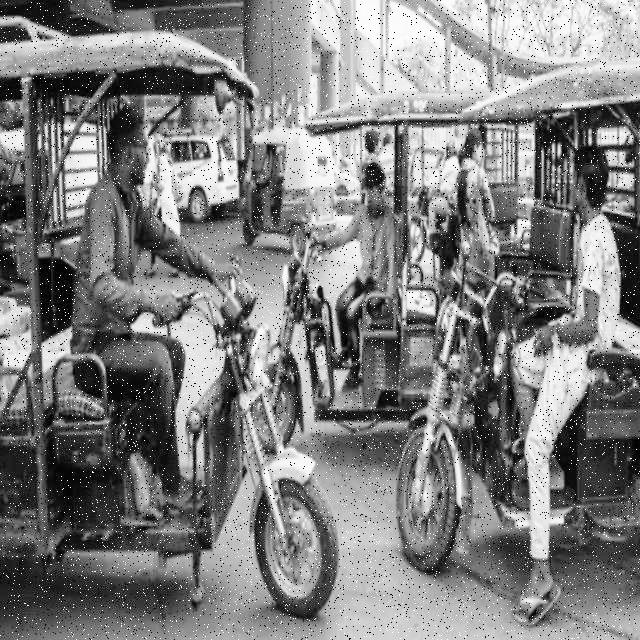Toto: (0, 18, 324, 624), (391, 49, 640, 573), (272, 99, 466, 431)
